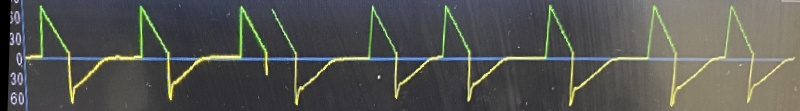normal_flow: (34, 0, 782, 111)
